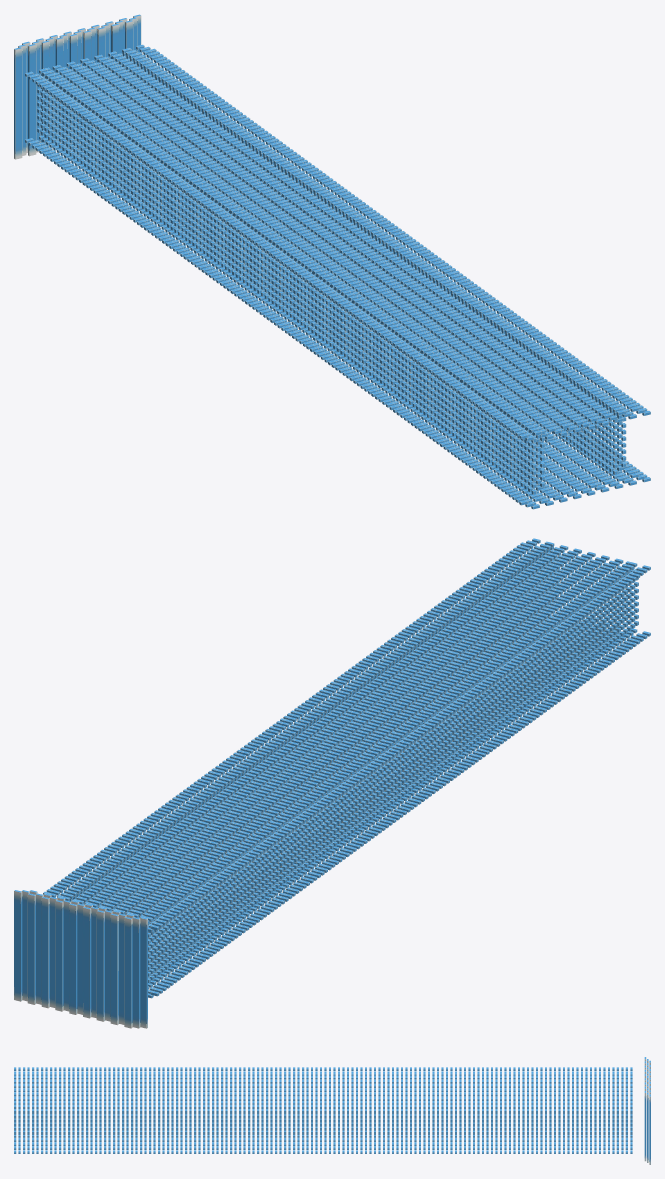
Rendered from Sky.fbx.
3 renders of one model, top to bottom at view 1: azimuth 30°, elevation 25°; view 2: azimuth 150°, elevation 25°; view 3: azimuth 270°, elevation 25°, orthographic. The views are drawn at different scales.
Parts seen in each view (by area): view 1: ground.330, ground.221, ground.339; view 2: ground.330, ground.221, ground.339; view 3: ground.330, ground.221, ground.339.
Part boxes in pixels (left/top/right/bottom): ground.330: left=25, top=44, right=650, bottom=509; ground.221: left=37, top=48, right=626, bottom=494; ground.339: left=14, top=14, right=141, bottom=159; ground.330: left=42, top=538, right=650, bottom=998; ground.221: left=61, top=541, right=638, bottom=982; ground.339: left=14, top=890, right=147, bottom=1028; ground.330: left=14, top=1067, right=632, bottom=1153; ground.221: left=14, top=1073, right=632, bottom=1134; ground.339: left=644, top=1057, right=650, bottom=1164.
Bounding box in the file's own units: 415 × 335 × 2832.
1 material, 1 textured.
